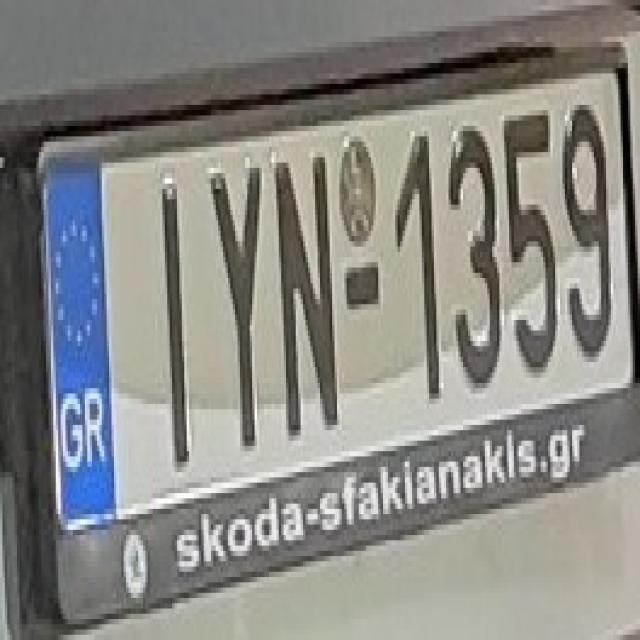1: (386, 110, 442, 404)
3: (442, 115, 499, 388)
5: (497, 89, 560, 373)
9: (555, 89, 618, 362)
L: (116, 147, 196, 467)
N: (264, 136, 342, 446)
Y: (194, 142, 272, 452)
